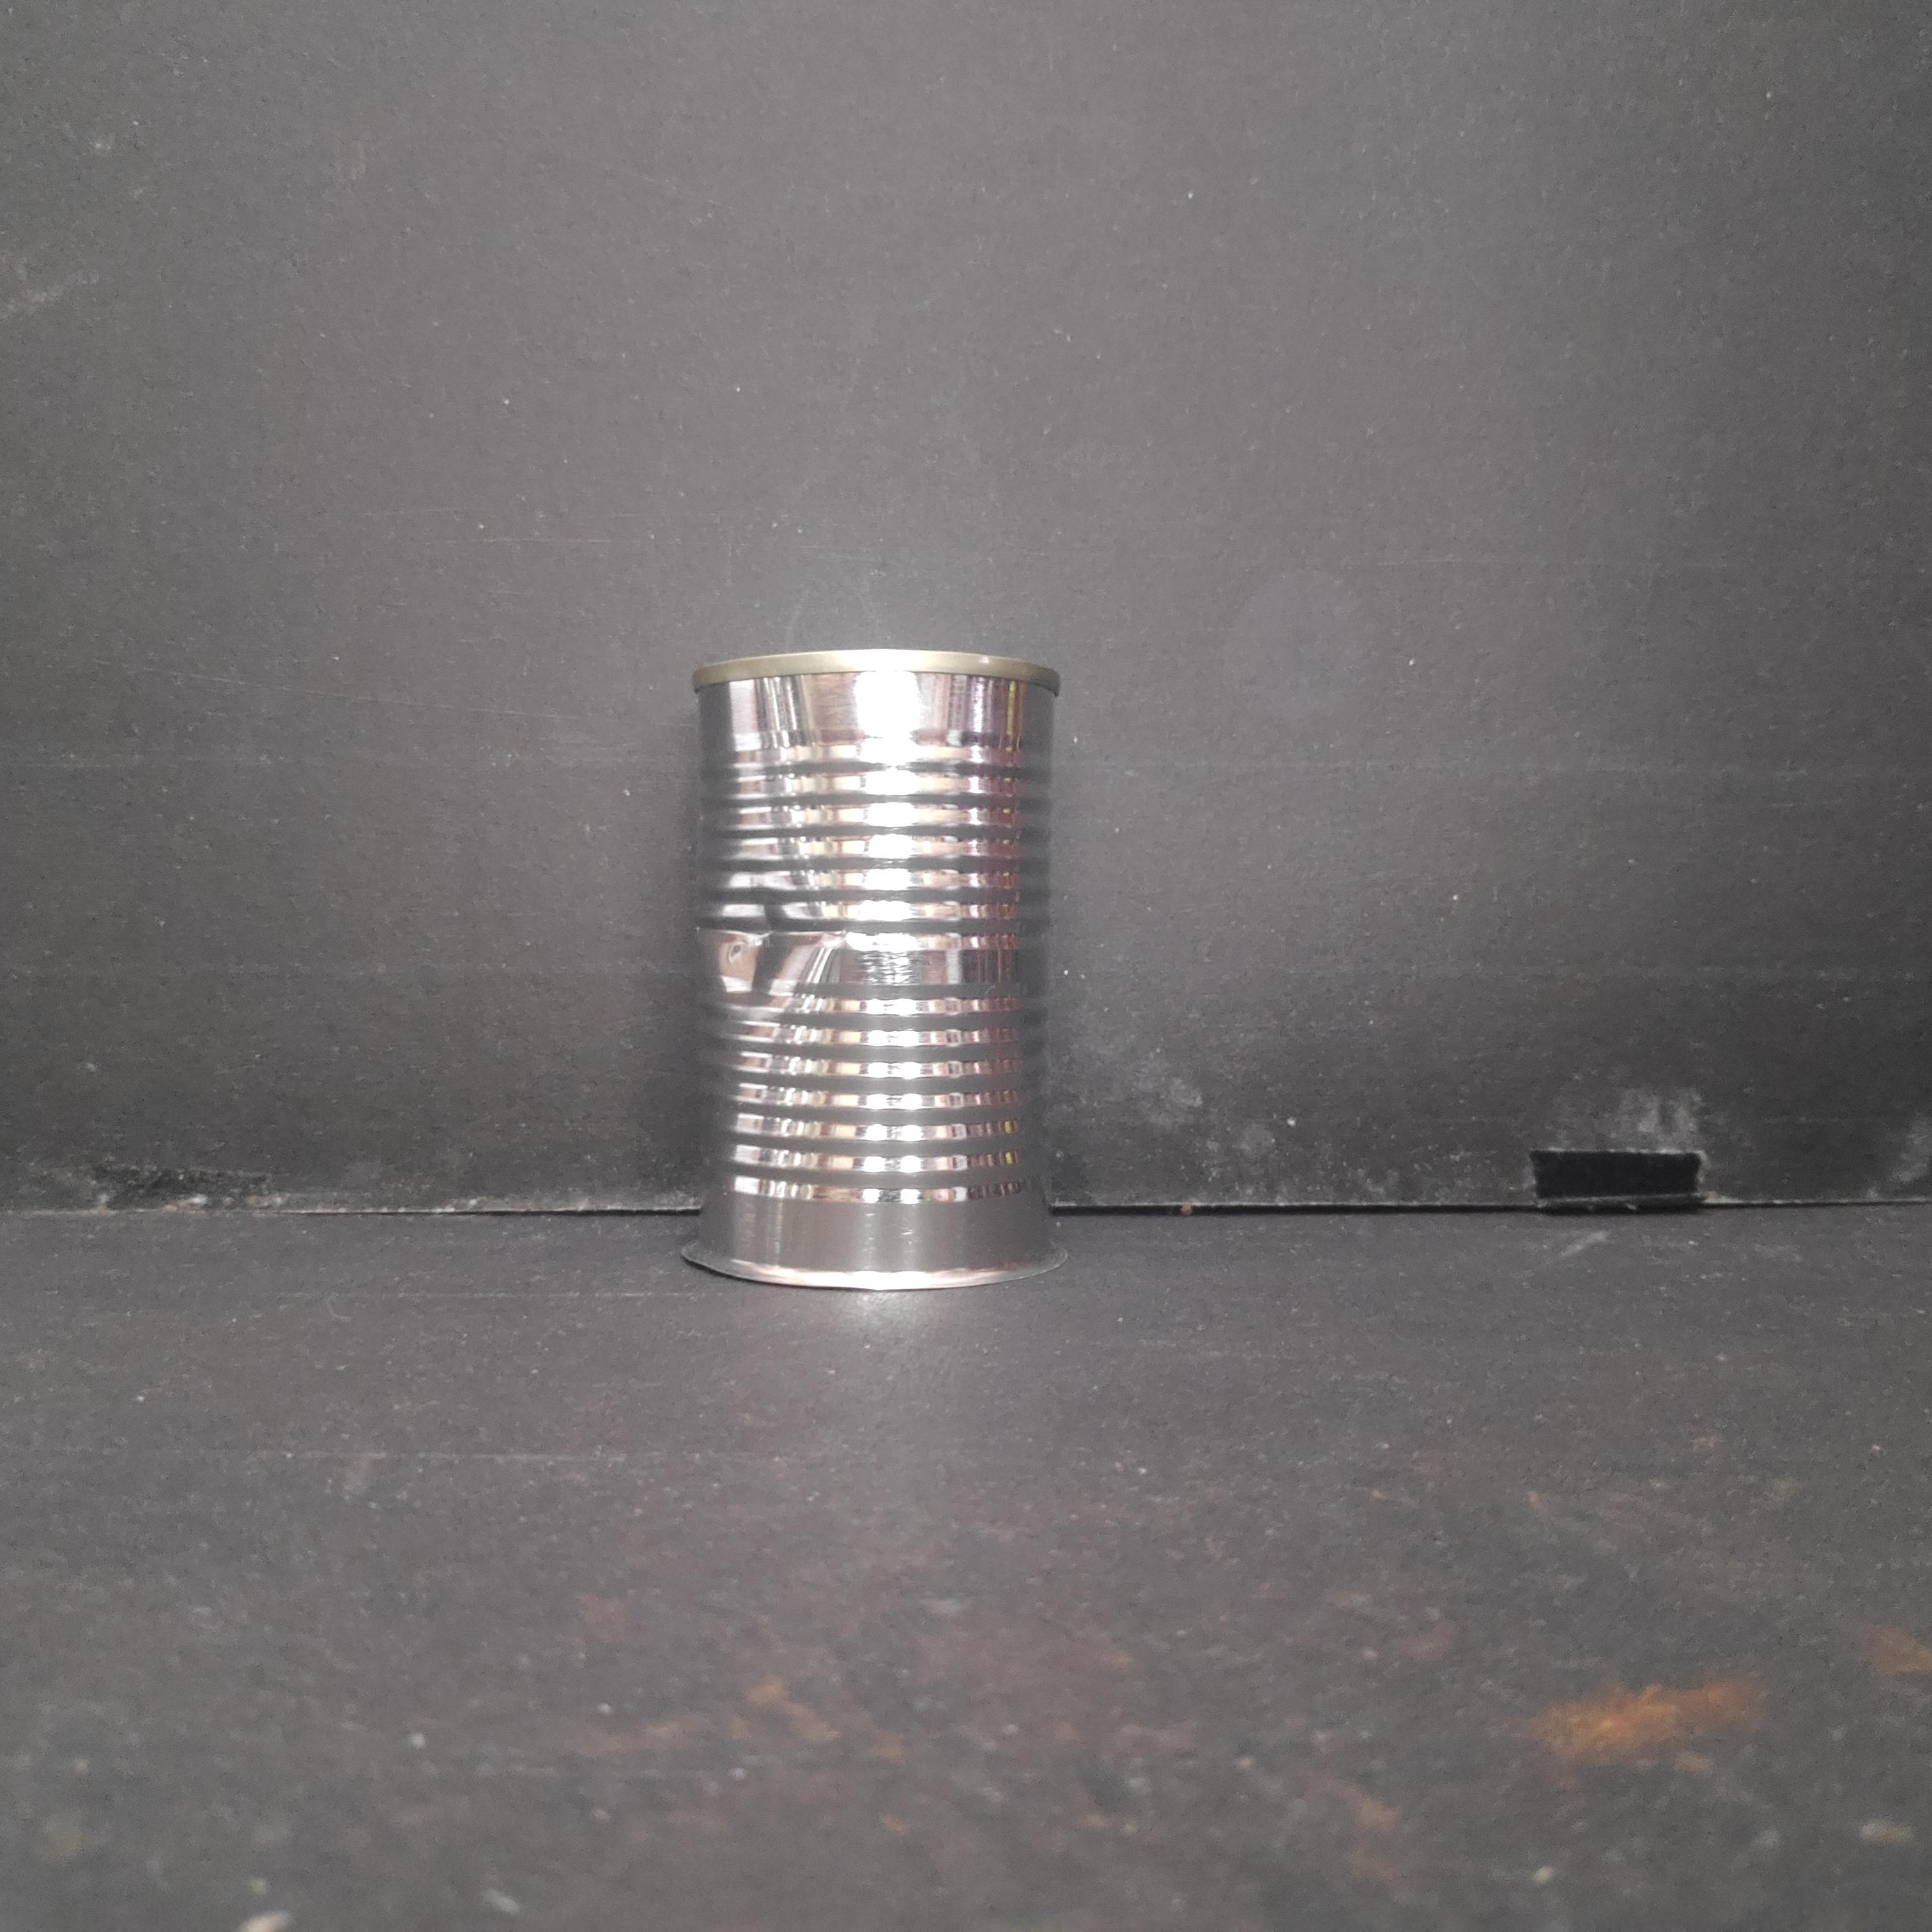Minor Defect: (675, 636, 1066, 1300)
